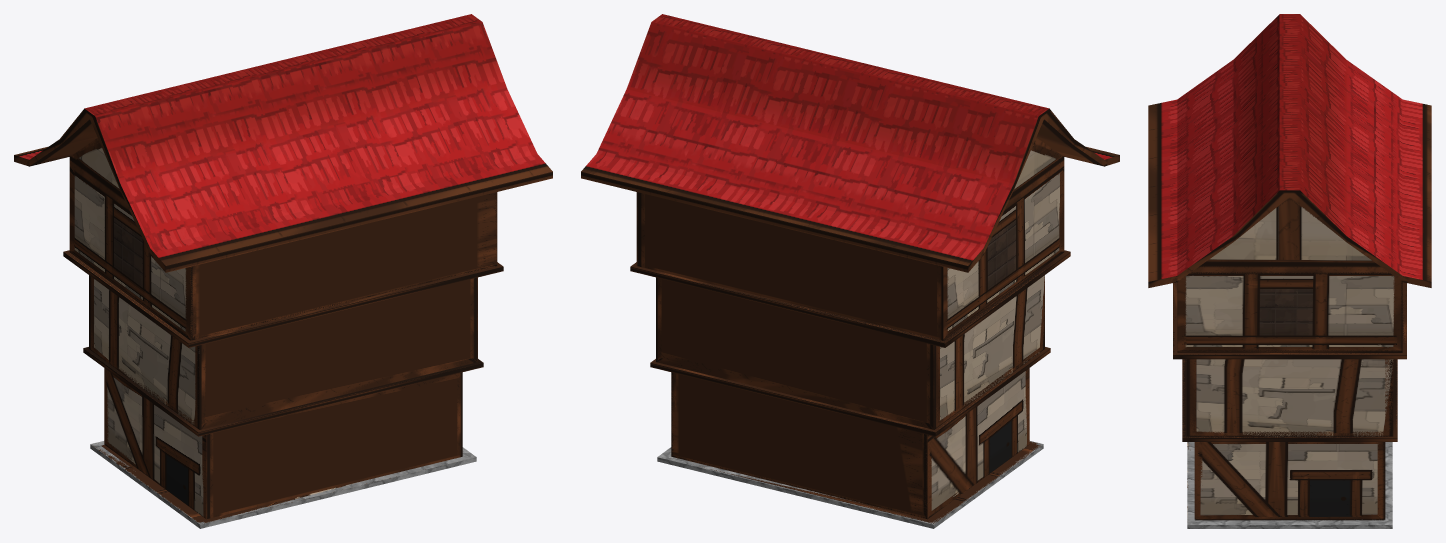
File: House Base3_E.fbx
3 renders of one model, left to right at view 1: azimuth 30°, elevation 25°; view 2: azimuth 150°, elevation 25°; view 3: azimuth 270°, elevation 25°, orthographic. The views are drawn at different scales.
Visible parts, largest first — view 1: House Base 3e_col, House Base 3e; view 2: House Base 3e, House Base 3e_col; view 3: House Base 3e, House Base 3e_col.
Part boxes in pixels (x1,y1,x2,y2): House Base 3e_col: [69, 138, 497, 524]; House Base 3e: [14, 14, 552, 528]; House Base 3e: [581, 14, 1119, 528]; House Base 3e_col: [636, 139, 1069, 523]; House Base 3e: [1148, 14, 1431, 528]; House Base 3e_col: [1173, 197, 1406, 524].
Bounding box in the file's own units: 1774 × 1706 × 1204.
